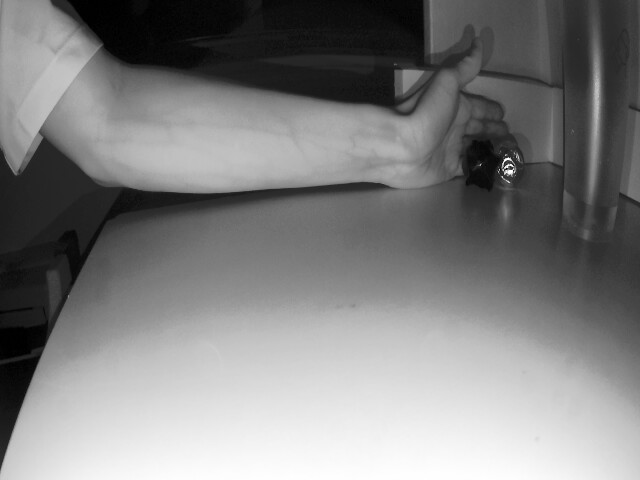black: (460, 140, 498, 186)
silver: (494, 131, 522, 191)
